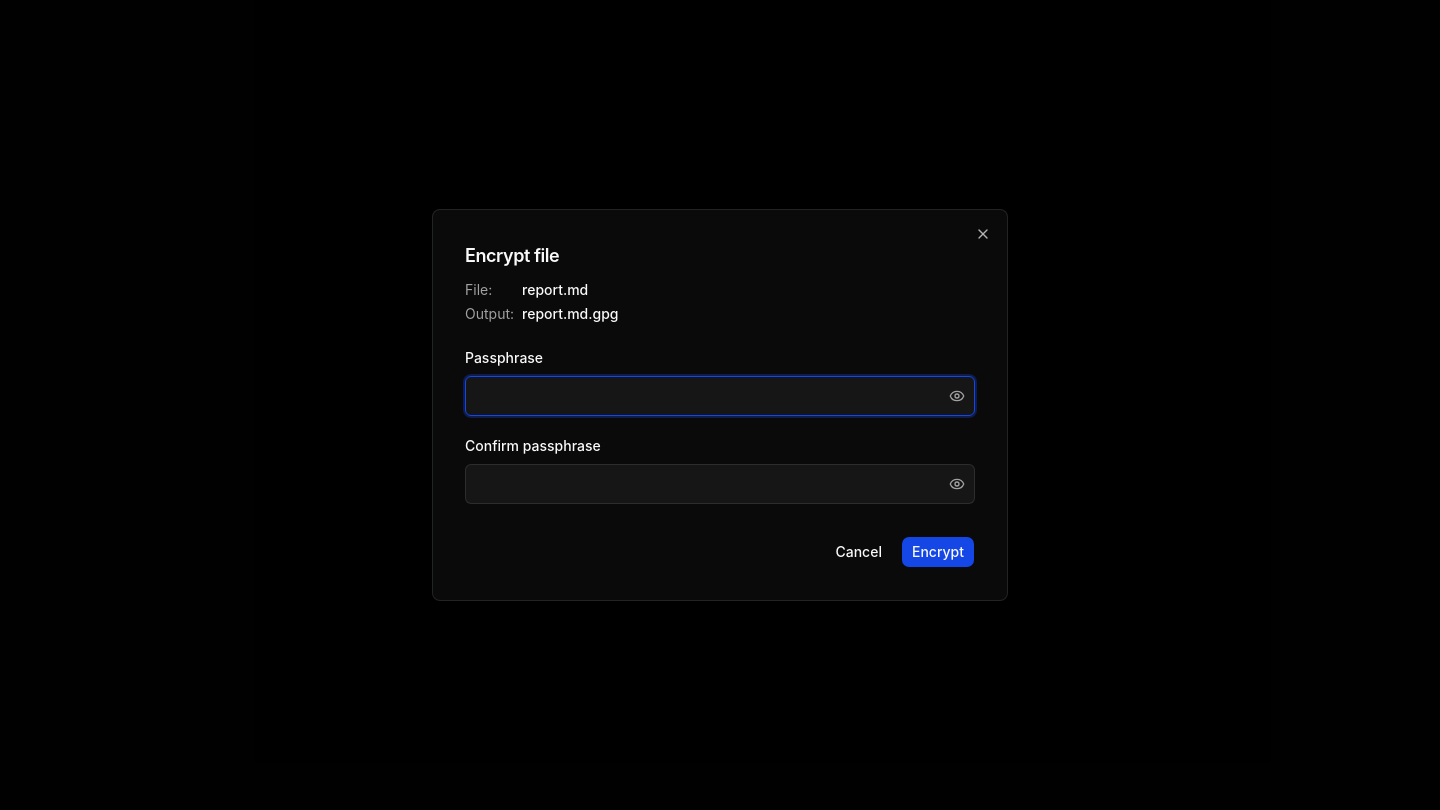
it: EncryptDialog › shows "at least 8 characters" error when passphrase is too short
This screenshot has width=1440, height=810.
Type "short" into the password field labelled "Passphrase".
click(720, 396); type("short")  # box [465,376,975,416]
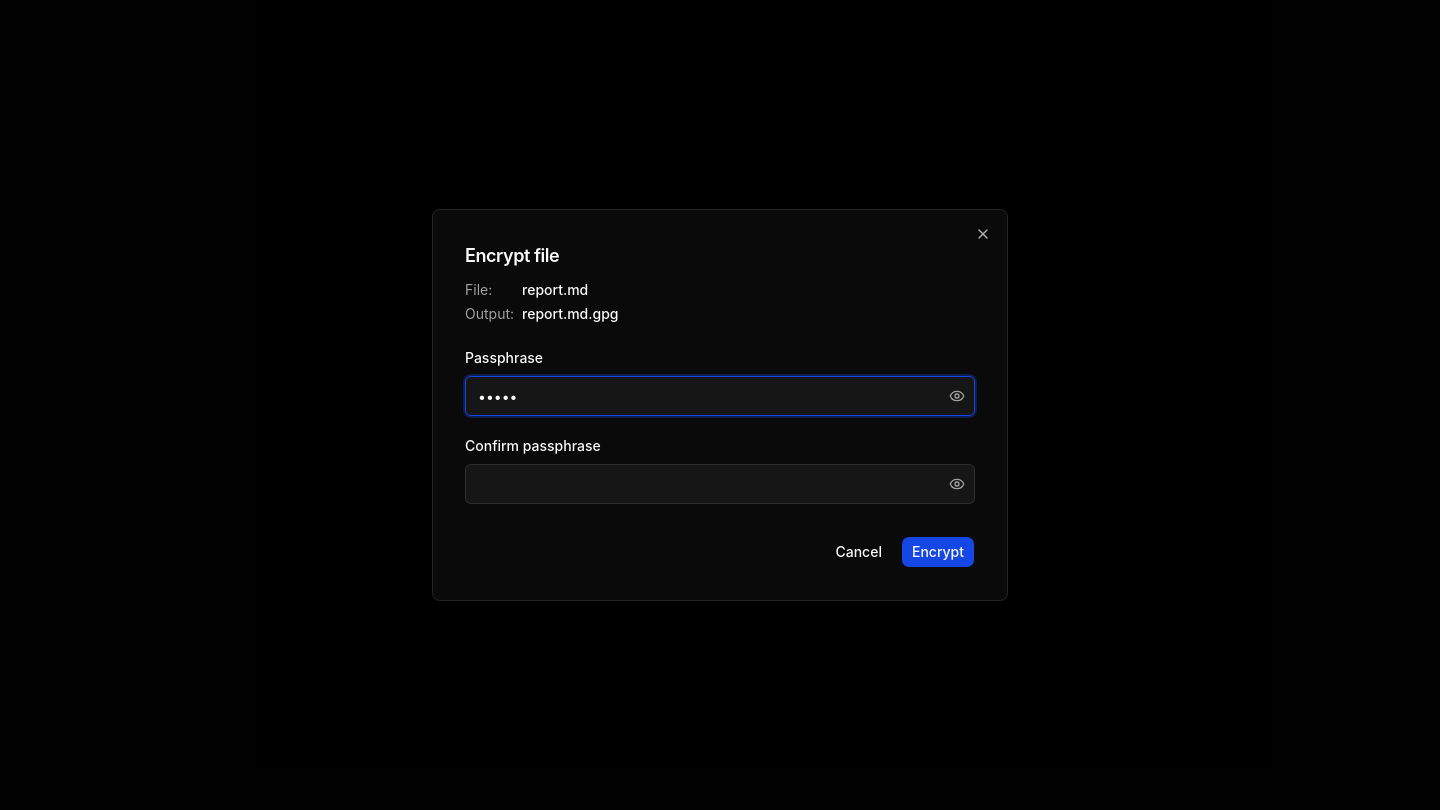
Type "short" into the password field labelled "Confirm passphrase".
click(720, 484); type("short")  # box [465,464,975,504]
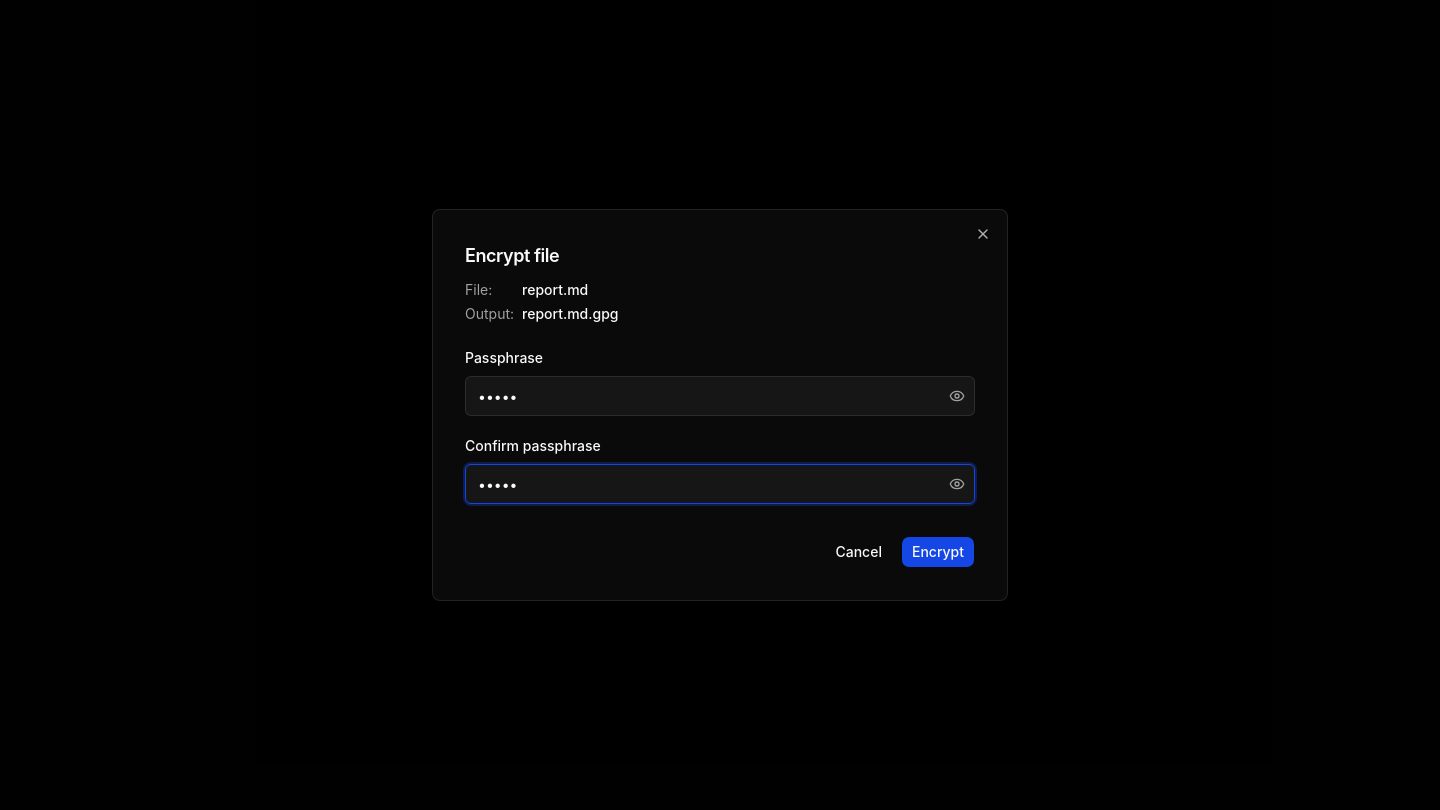
Click the button "Encrypt".
click(938, 552)  # box [901,536,975,568]
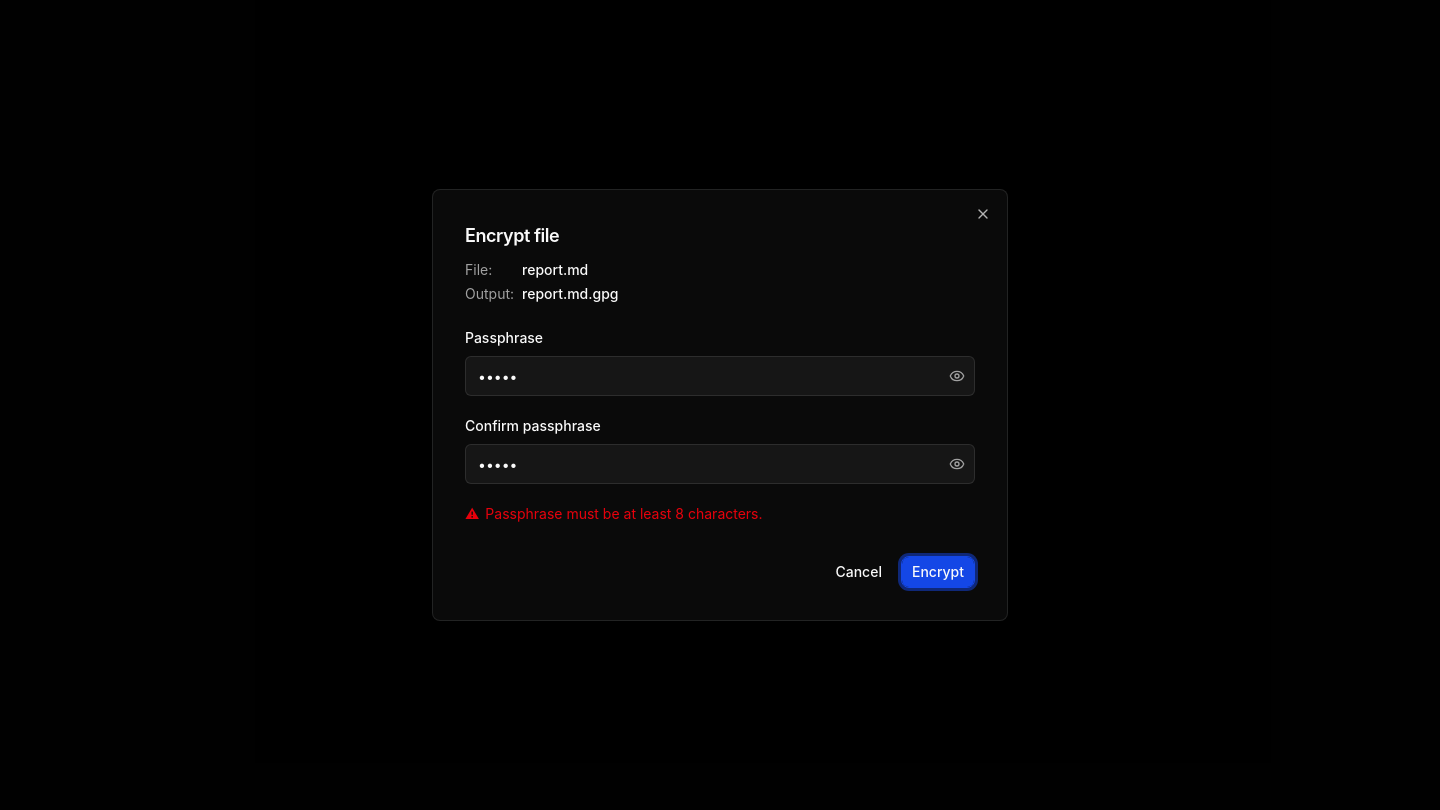
Expected: the message shows "Passphrase must be at least 8 characters.", [485,505,763,522]
